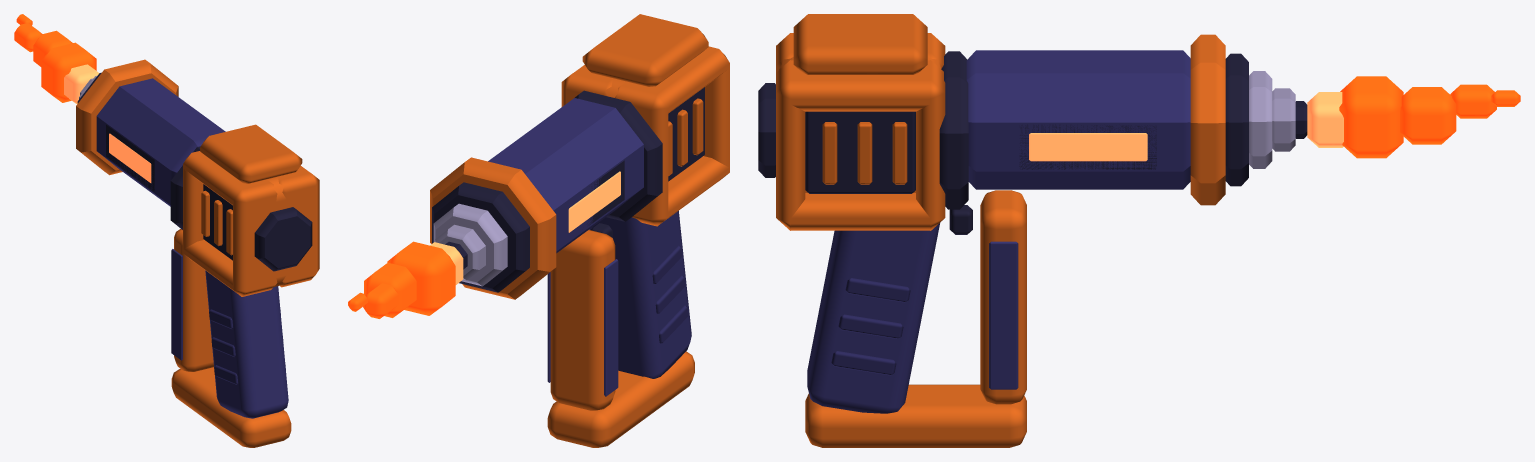
The model's file is welder.glb.
3 views of the same model, side by side, from view 1: azimuth 30°, elevation 25°; view 2: azimuth 150°, elevation 25°; view 3: azimuth 270°, elevation 25° (orthographic). The views are drawn at different scales.
Visible parts, largest first — view 1: item.welder.body, part.flame; view 2: item.welder.body, part.flame; view 3: item.welder.body, part.flame.
Boxes of the visible parts, left/top/right/bottom form: item.welder.body: left=76, top=59, right=319, bottom=447; part.flame: left=14, top=14, right=99, bottom=104; item.welder.body: left=430, top=14, right=729, bottom=447; part.flame: left=348, top=241, right=463, bottom=318; item.welder.body: left=758, top=14, right=1307, bottom=447; part.flame: left=1307, top=76, right=1520, bottom=158.
Size of the model in its own units: 0.1688 by 0.4812 by 0.8156.
